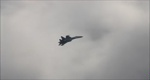maybay_muctieu: (57, 34, 83, 46)
